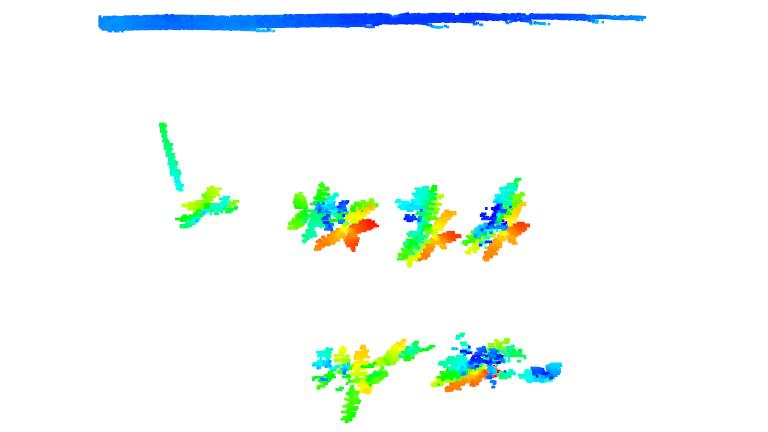chickpea: (287, 178, 378, 252), (305, 341, 387, 423), (458, 174, 528, 266), (391, 180, 461, 268), (427, 334, 523, 398), (175, 182, 240, 230), (369, 336, 440, 366), (519, 362, 566, 384)
